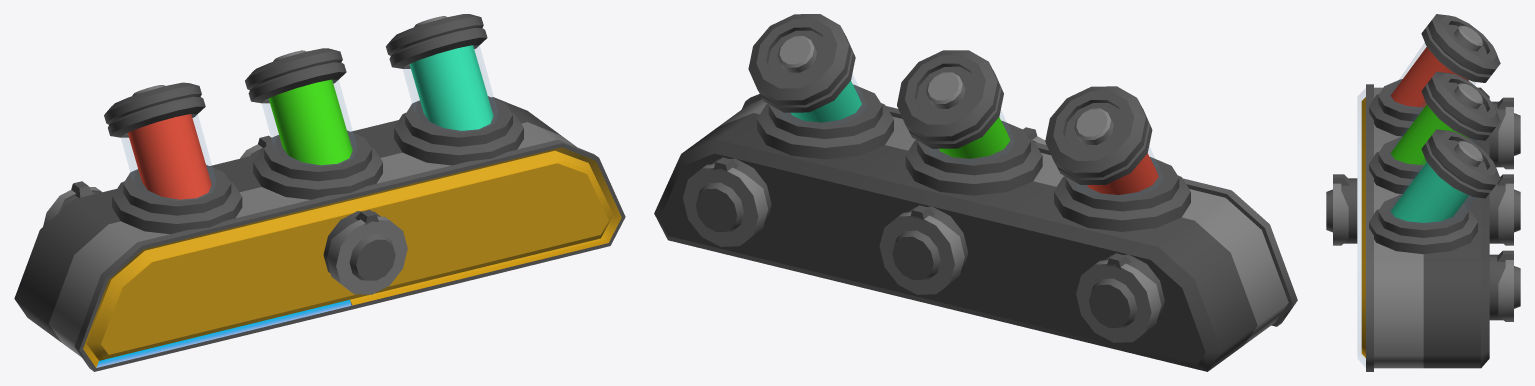
File: Color_Mixer.fbx
3 views of the same model, side by side, from view 1: azimuth 30°, elevation 25°; view 2: azimuth 150°, elevation 25°; view 3: azimuth 270°, elevation 25° (orthographic). The views are drawn at different scales.
Visible parts, largest first — view 1: Color_Mixer; view 2: Color_Mixer; view 3: Color_Mixer.
Boxes of the visible parts, x1,y1,x2,y2 form: Color_Mixer: (14, 14, 625, 371); Color_Mixer: (654, 14, 1297, 371); Color_Mixer: (1326, 14, 1520, 371).
Bounding box in the file's own units: 585 × 231 × 215.
